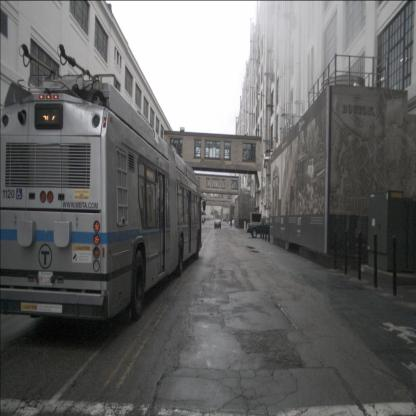human-pedestrian-adult: (230, 218, 232, 227)
vehicle-car: (229, 218, 239, 226), (214, 219, 221, 229)
vehicle-truck: (247, 216, 276, 237), (223, 214, 227, 221)
